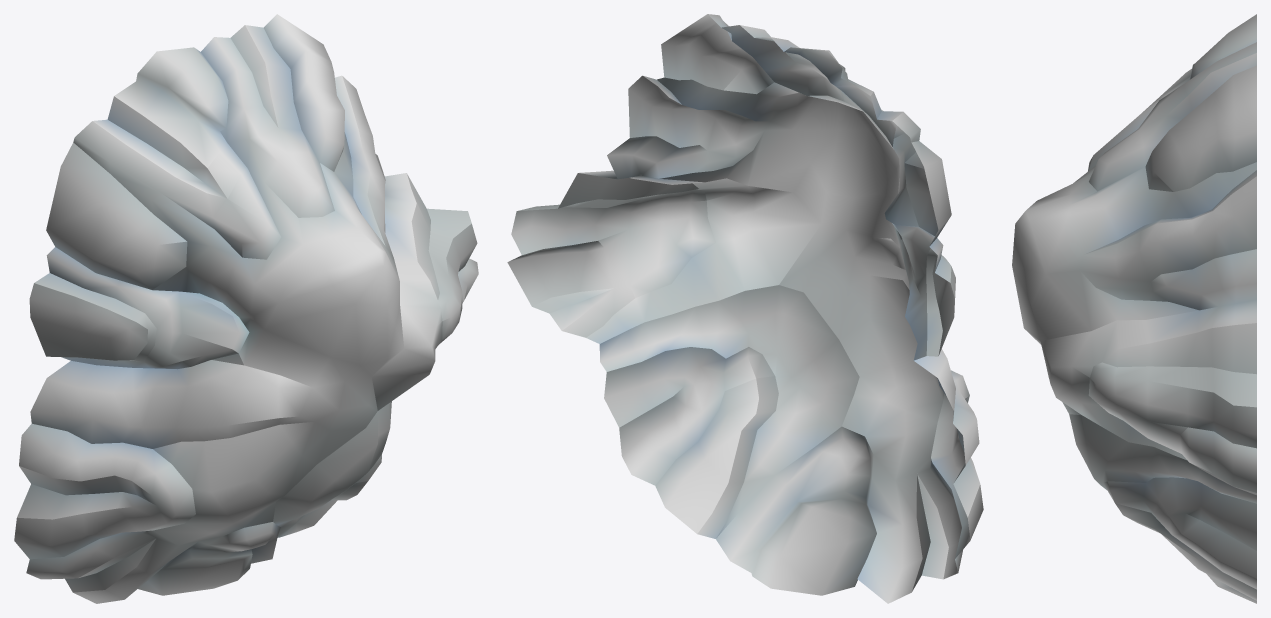
Rendered from Mountain_SnowA.glb.
3 renders of one model, left to right at view 1: azimuth 30°, elevation 25°; view 2: azimuth 150°, elevation 25°; view 3: azimuth 270°, elevation 25°, orthographic.
Parts seen in each view (by area): view 1: MeshNode_0; view 2: MeshNode_0; view 3: MeshNode_0.
Boxes of the visible parts, x1,y1,x2,y2 form: MeshNode_0: [14, 14, 478, 603]; MeshNode_0: [507, 14, 983, 603]; MeshNode_0: [1012, 14, 1256, 603].
Bounding box in the file's own units: 255 × 295 × 115.
